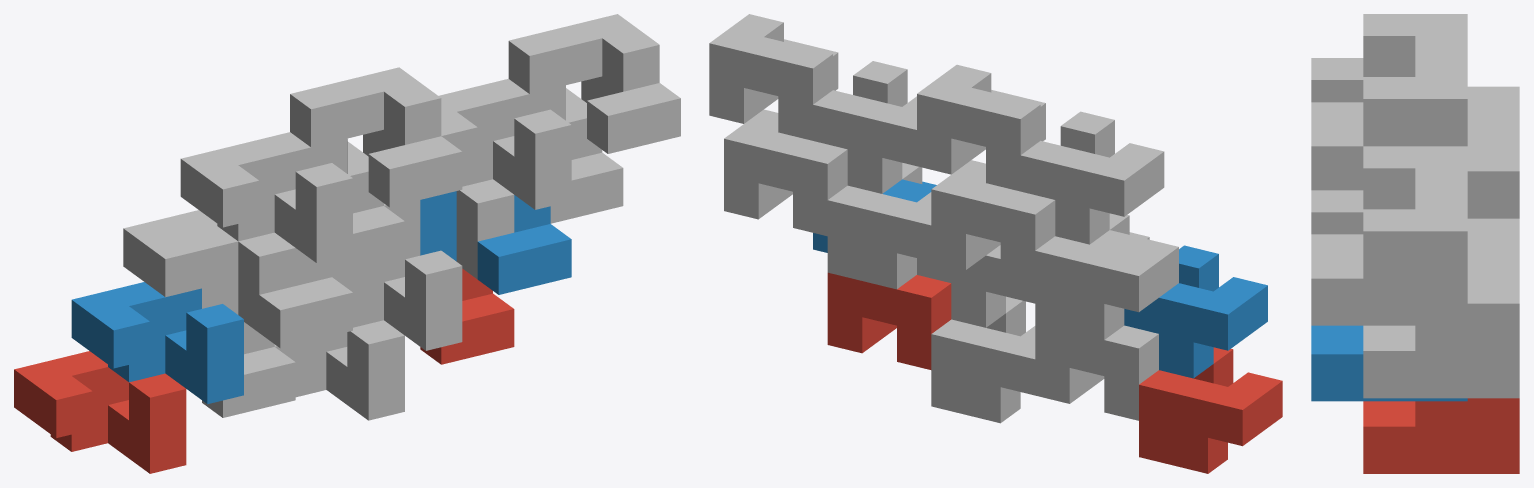
The model's file is tiling.obj.
3 renders of one model, left to right at view 1: azimuth 30°, elevation 25°; view 2: azimuth 150°, elevation 25°; view 3: azimuth 270°, elevation 25°, orthographic. The views are drawn at different scales.
Visible parts, largest first — view 1: copy_2_domain_4, copy_2_domain_8, copy_1_domain_4, copy_1_domain_2, copy_1_domain_1, copy_1_domain_8, copy_1_domain_3, copy_2_domain_2, copy_1_domain_6, copy_1_domain_5, copy_2_domain_6, copy_1_domain_7 (+4 smaller); view 2: copy_1_domain_1, copy_1_domain_4, copy_1_domain_3, copy_2_domain_8, copy_2_domain_4, copy_2_domain_3, copy_2_domain_7, copy_1_domain_2, copy_1_domain_5, copy_1_domain_8, copy_1_domain_7, copy_2_domain_5 (+4 smaller); view 3: copy_2_domain_8, copy_2_domain_7, copy_2_domain_4, copy_2_domain_5, copy_1_domain_8, copy_1_domain_4, copy_2_domain_3, copy_2_domain_6, copy_1_domain_7, copy_1_domain_3.
Part boxes in pixels (box(x1,y1,x2,y2)): copy_2_domain_4: box(290, 67, 462, 207); copy_2_domain_8: box(508, 14, 680, 153); copy_1_domain_4: box(180, 132, 352, 262); copy_1_domain_2: box(71, 282, 243, 404); copy_1_domain_1: box(14, 351, 186, 473); copy_1_domain_8: box(439, 79, 571, 209); copy_1_domain_3: box(123, 210, 295, 332); copy_2_domain_2: box(181, 226, 352, 348); copy_1_domain_6: box(332, 235, 462, 350); copy_1_domain_5: box(274, 320, 404, 420); copy_2_domain_6: box(420, 191, 571, 294); copy_1_domain_7: box(384, 179, 514, 279); copy_1_domain_1: box(1139, 347, 1282, 473); copy_1_domain_4: box(1020, 111, 1164, 244); copy_1_domain_3: box(1035, 213, 1178, 339); copy_2_domain_8: box(709, 14, 838, 140); copy_2_domain_4: box(917, 64, 1045, 191); copy_2_domain_3: box(931, 160, 1055, 286); copy_2_domain_7: box(724, 109, 847, 236); copy_1_domain_2: box(1124, 245, 1267, 378); copy_1_domain_5: box(931, 296, 1035, 423); copy_1_domain_8: box(813, 61, 916, 193); copy_1_domain_7: box(827, 163, 931, 289); copy_2_domain_5: box(827, 272, 951, 369); copy_2_domain_8: box(1311, 165, 1467, 325); copy_2_domain_7: box(1363, 237, 1519, 398); copy_2_domain_4: box(1311, 33, 1467, 190); copy_2_domain_5: box(1363, 398, 1519, 473); copy_1_domain_8: box(1311, 146, 1467, 234); copy_1_domain_4: box(1311, 14, 1467, 102); copy_2_domain_3: box(1467, 105, 1519, 218); copy_2_domain_6: box(1311, 325, 1467, 401); copy_1_domain_7: box(1467, 218, 1519, 237); copy_1_domain_3: box(1467, 86, 1519, 105).
Size of the model in its own units: 16 by 8 by 4.
